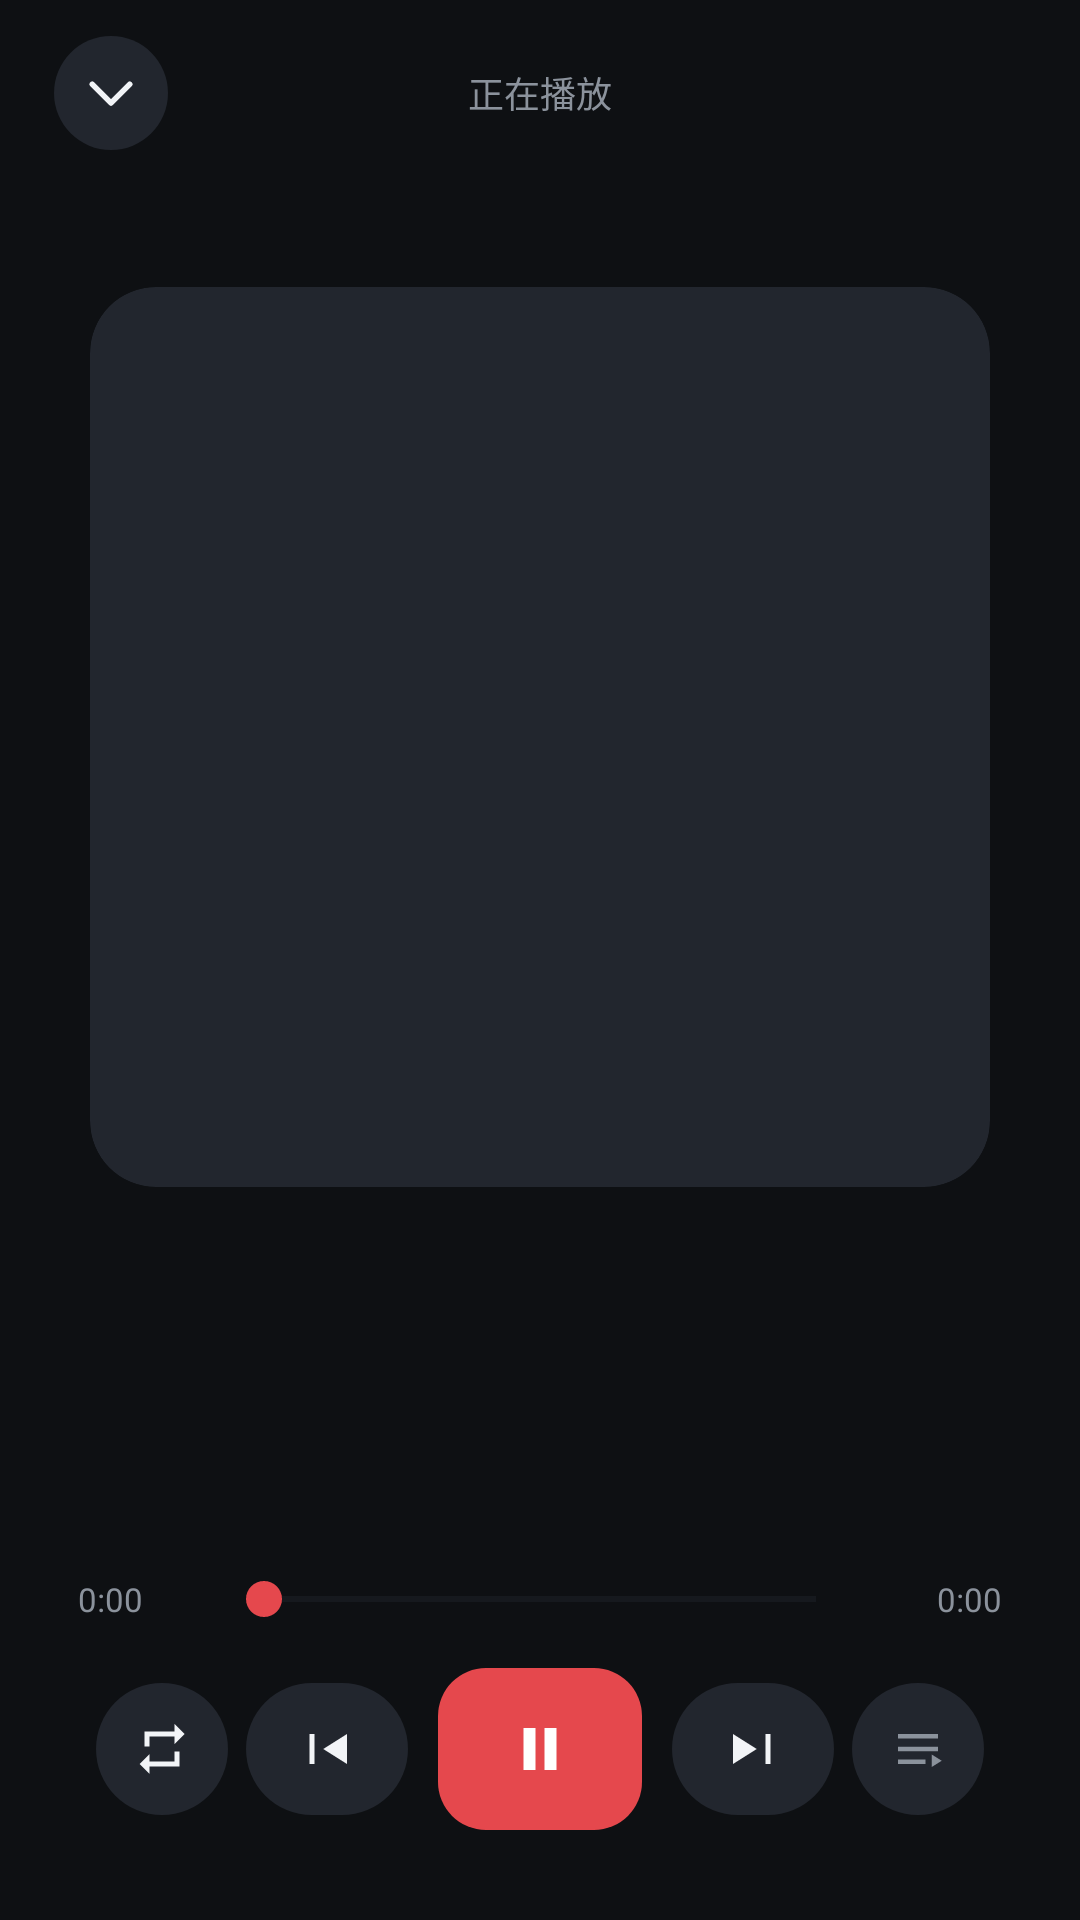

Icons on this 1080w x 1920h Android screen, each with its box as (x1, y1, x2, y2):
上一首: (246, 1683, 408, 1815)
下一首: (672, 1683, 834, 1815)
播放列表: (852, 1683, 984, 1815)
播放或暂停: (438, 1668, 642, 1830)
播放模式: (96, 1683, 228, 1815)
收起: (54, 36, 168, 150)
